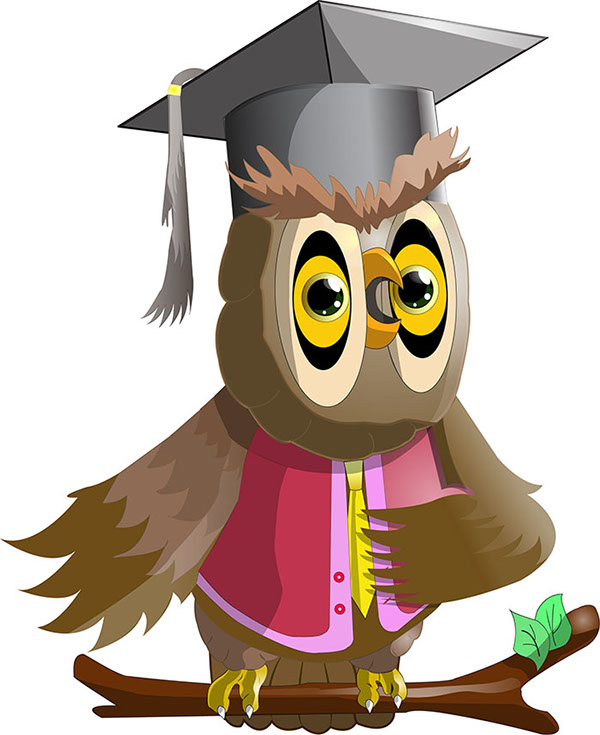bird: (50, 20, 550, 688)
